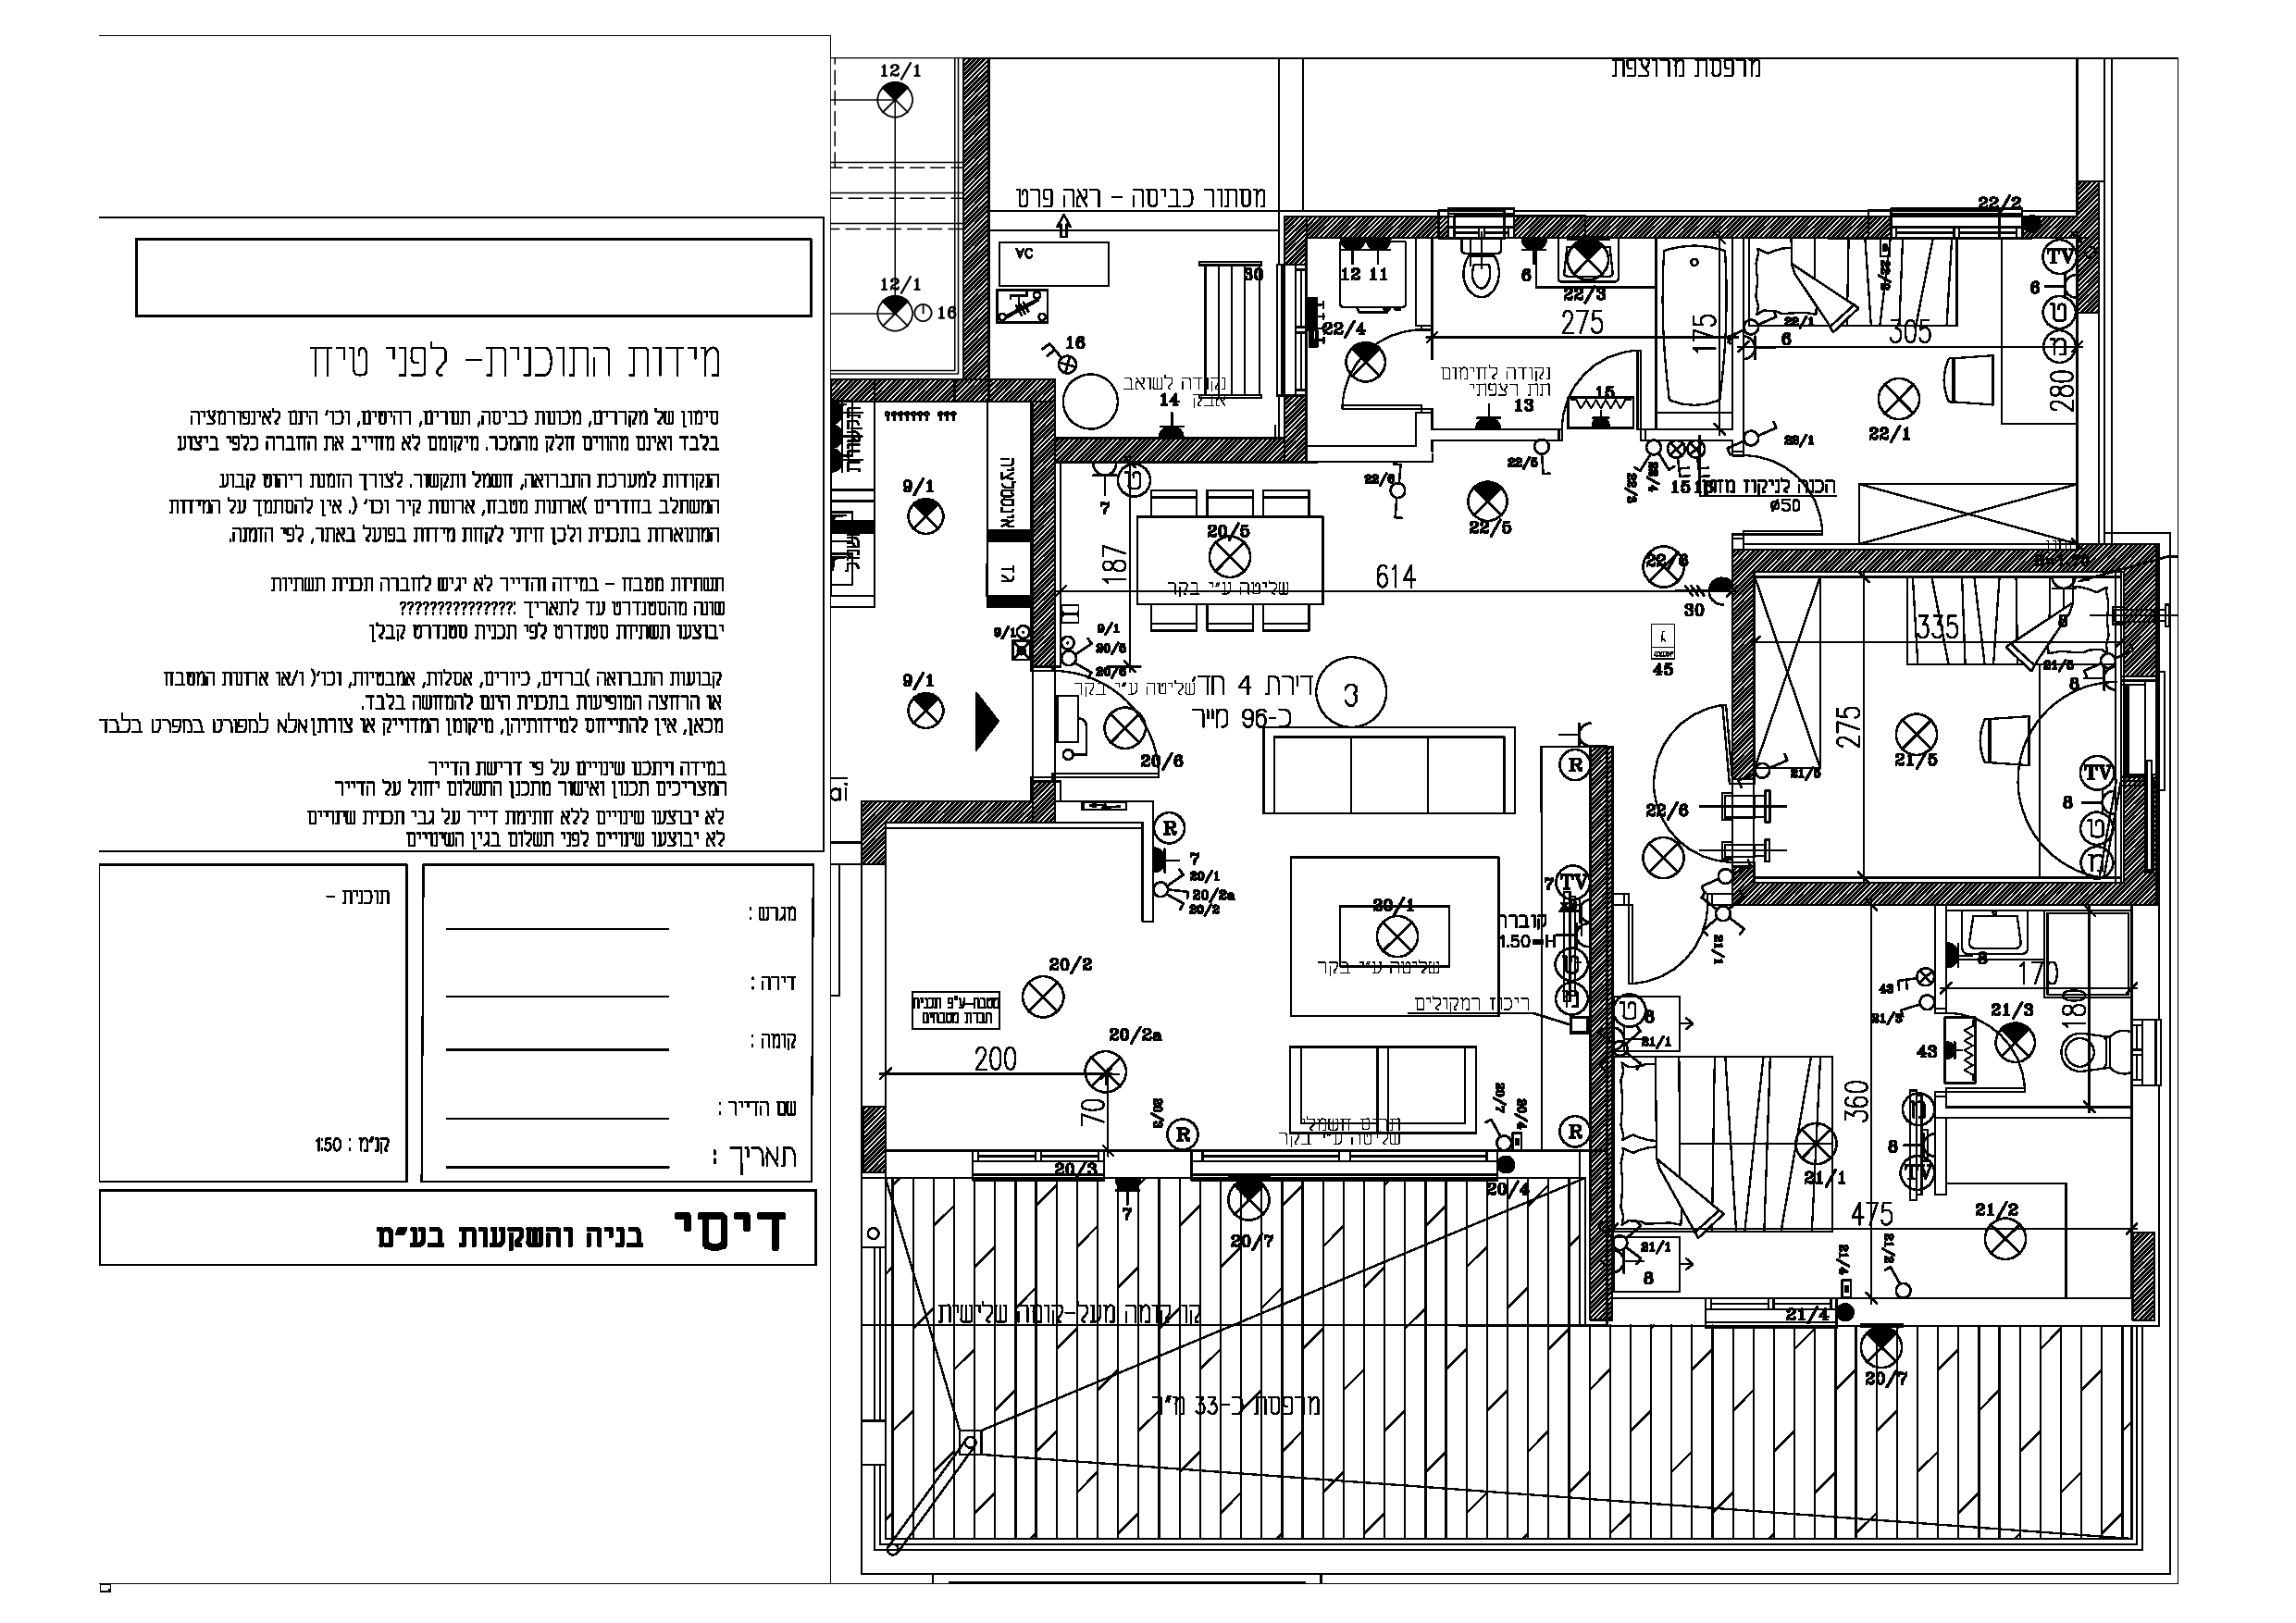wall: (1590, 747, 1611, 1323), (1523, 211, 1883, 241), (957, 54, 986, 378), (1743, 880, 2147, 899), (1743, 550, 2150, 567), (864, 799, 1056, 826), (1061, 439, 1302, 457), (833, 381, 1049, 400), (1737, 580, 1755, 775), (1286, 218, 1451, 237), (1036, 416, 1049, 655), (2078, 183, 2096, 313), (861, 1108, 887, 1172), (2134, 1233, 2152, 1319), (2029, 216, 2078, 230), (1284, 399, 1307, 425)
window: (1205, 1147, 1486, 1163), (973, 1151, 1107, 1158)
